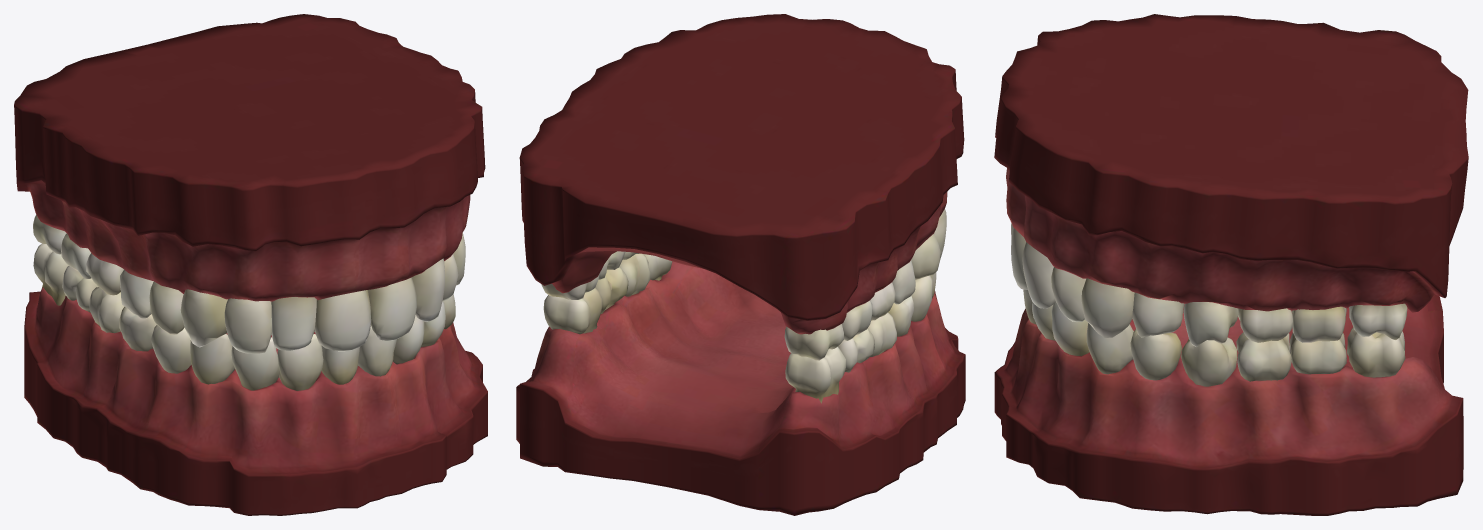
Rendered from teeths-blend.glb.
3 views of the same model, side by side, from view 1: azimuth 30°, elevation 25°; view 2: azimuth 150°, elevation 25°; view 3: azimuth 270°, elevation 25° (orthographic). The views are drawn at different scales.
Parts seen in each view (by area): view 1: Gums_Up, Gums_Down, Teeths_Up, Teeths_Down; view 2: Gums_Up, Gums_Down, Teeths_Down, Teeths_Up; view 3: Gums_Up, Gums_Down, Teeths_Up, Teeths_Down.
Boxes of the visible parts, x1,y1,x2,y2 form: Gums_Up: [14, 14, 485, 301]; Gums_Down: [24, 287, 487, 515]; Teeths_Up: [33, 214, 465, 353]; Teeths_Down: [33, 243, 455, 390]; Gums_Up: [519, 14, 964, 334]; Gums_Down: [516, 261, 965, 515]; Teeths_Down: [543, 253, 936, 403]; Teeths_Up: [541, 209, 946, 360]; Gums_Up: [994, 14, 1468, 312]; Gums_Down: [994, 295, 1463, 515]; Teeths_Up: [1011, 223, 1407, 346]; Teeths_Down: [1023, 289, 1405, 386].
Bounding box in the file's own units: 1.96 × 1.69 × 2.15.
1 material, 1 textured.
